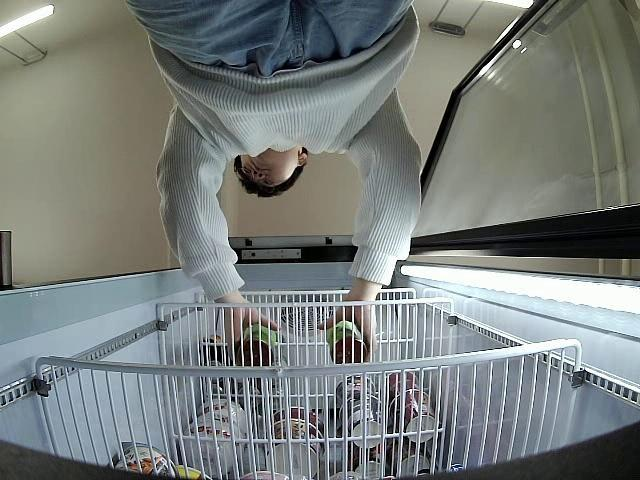19_17cha: (325, 320, 367, 364), (236, 326, 278, 368)
